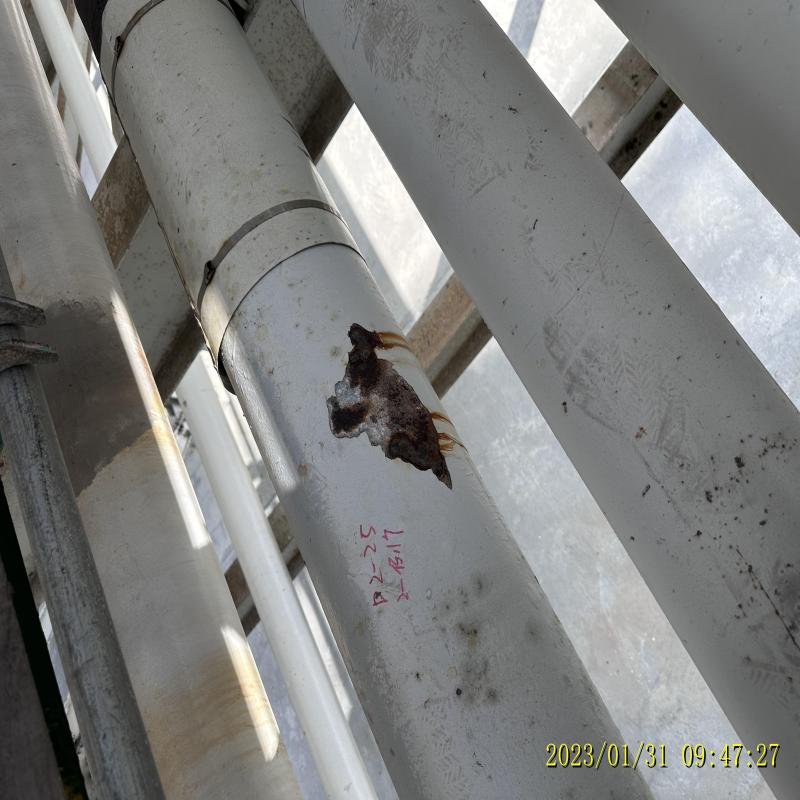corrosion: (347, 328, 429, 463)
